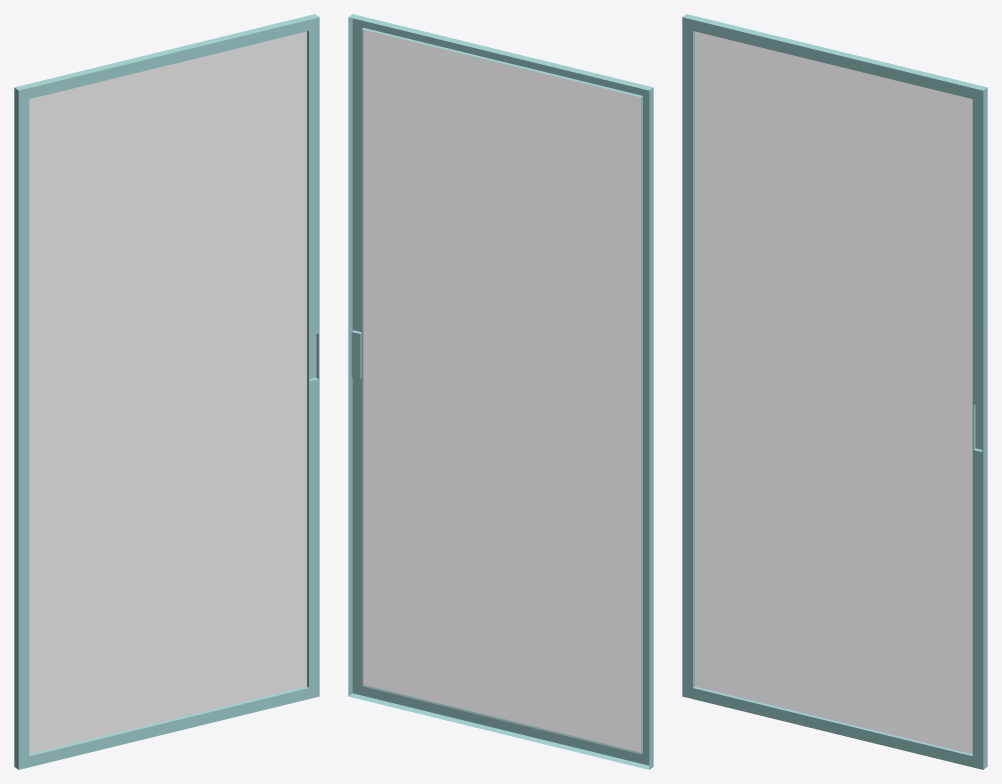
Rendered from Ventanal V Vidrio 2.fbx.
The picture shows the model from 3 angles, left to right: view 1: azimuth 30°, elevation 25°; view 2: azimuth 150°, elevation 25°; view 3: azimuth 330°, elevation 25°; orthographic projection.
Visible parts, largest first — view 1: Ventanal_V_Vidrio_2; view 2: Ventanal_V_Vidrio_2; view 3: Ventanal_V_Vidrio_2.
Boxes of the visible parts, x1,y1,x2,y2 form: Ventanal_V_Vidrio_2: (14, 14, 319, 769); Ventanal_V_Vidrio_2: (348, 14, 653, 769); Ventanal_V_Vidrio_2: (682, 14, 987, 769).
Size of the model in its own units: 0.9088 by 1.96 by 0.0232.
